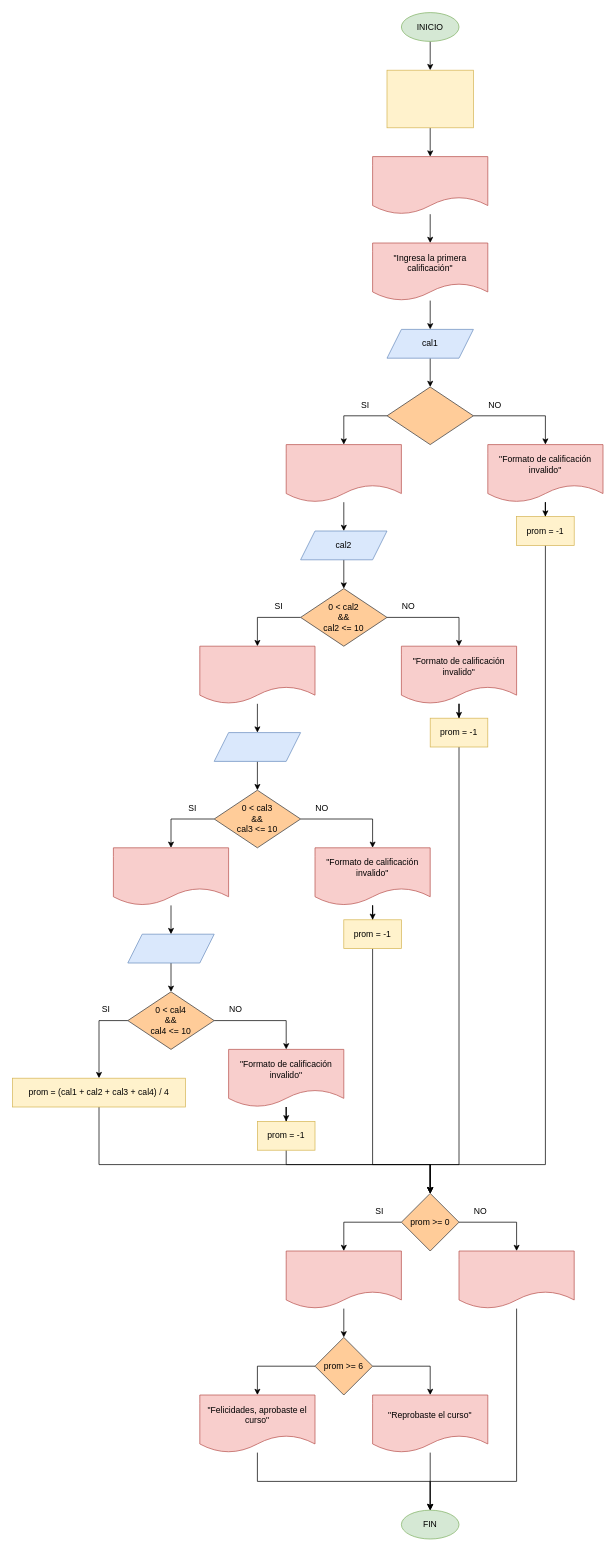
Some shapes in this 616 by 1552 pixel diagram are drawn without their labels. The shapes that lost their labels are listed below. From the top down, each one's centre as x and y in pixels, then its label:
(429,98): cal1 = 0 cal2 = 0 cal3 = 0 cal4 = 0 prom = 0
(430,185): "Ejemplo: Programa que el promedio de calificaciones"
(429,415): 0 < cal1 && cal1 <= 10
(343,473): "Ingresa la segunda calificación"
(257,674): "Ingresa la tercera calificación"
(257,746): cal3
(171,876): "Ingresa la cuarta calificación"
(170,948): cal4
(343,1279): "Tu promedio es: ", prom
(516,1279): "Tu promedio no se calculo"
